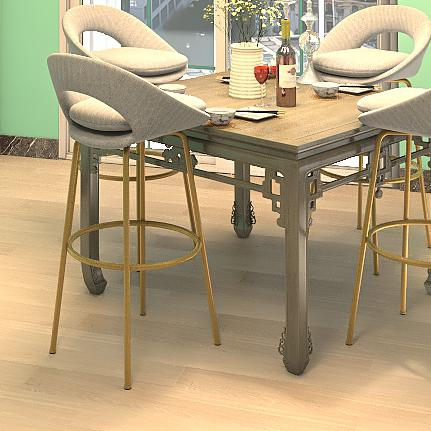table: (78, 68, 431, 371)
